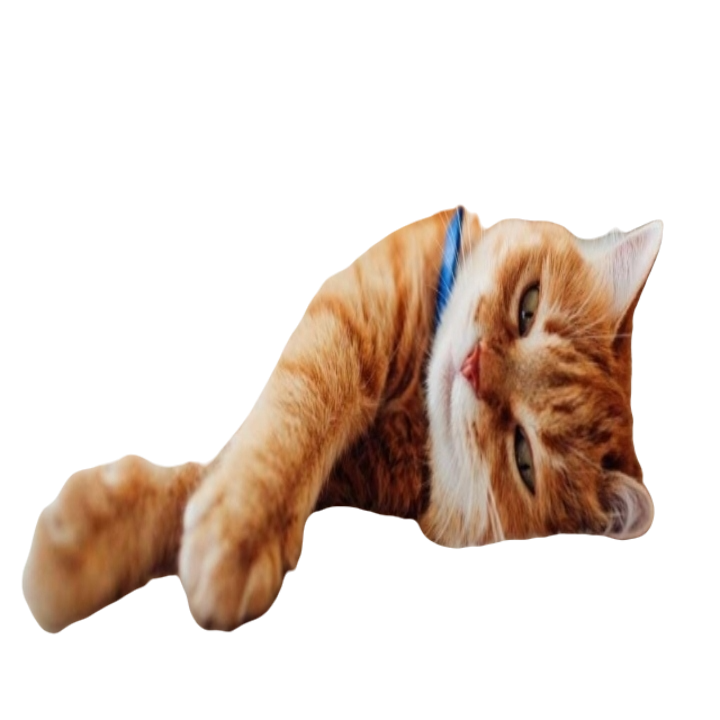Cat: (5, 200, 696, 638)
